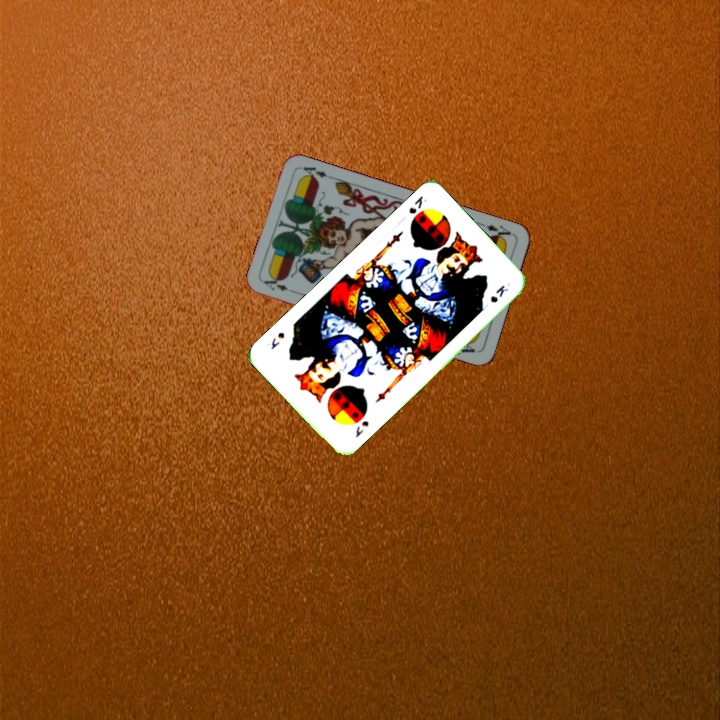EA: (476, 219, 515, 244), (260, 276, 299, 296)
SK: (405, 191, 430, 216), (351, 416, 371, 441)
